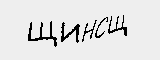И: (59, 22, 82, 42)
Н: (83, 17, 96, 41)
С: (95, 13, 109, 37)
Щ: (27, 19, 56, 48), (108, 14, 128, 37)
